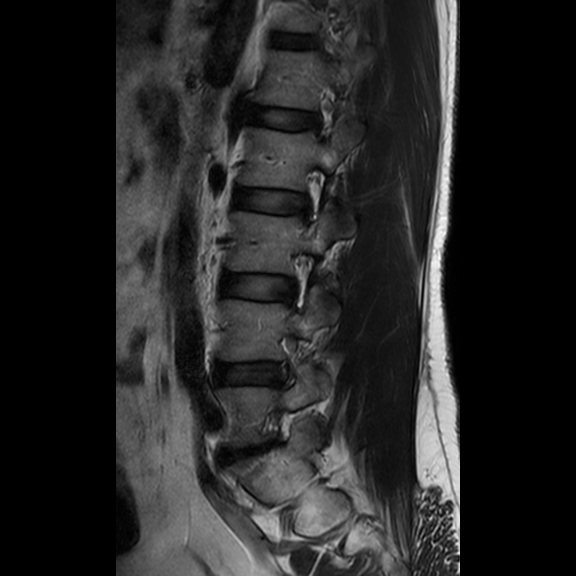LFS0: (288, 156, 335, 235), (278, 243, 323, 322)
LFS3: (268, 329, 310, 395)
